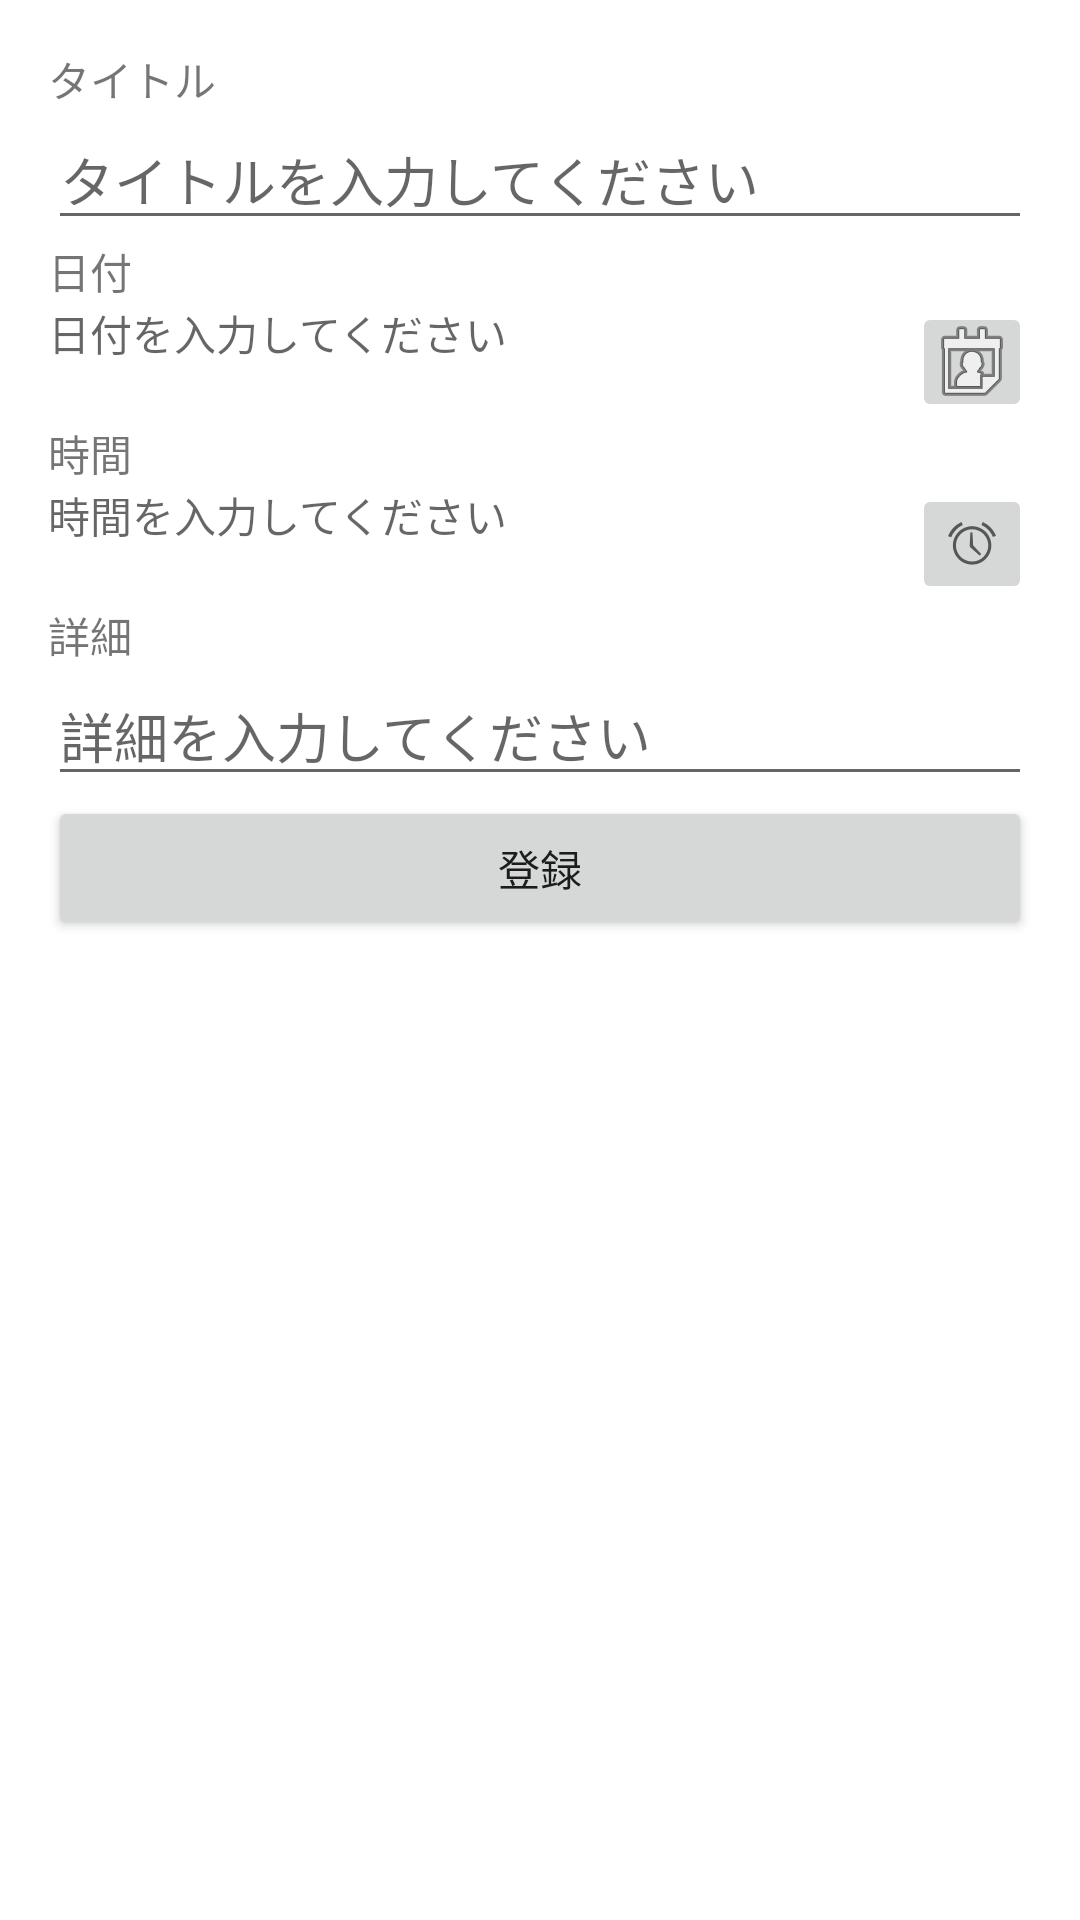

Named icons in this screenshot (1080 x 1920) and their bounding boxes, (x1, y1, x2, y2):
calendar: (924, 320, 1020, 404)
lock idle alarm: (924, 502, 1020, 586)
